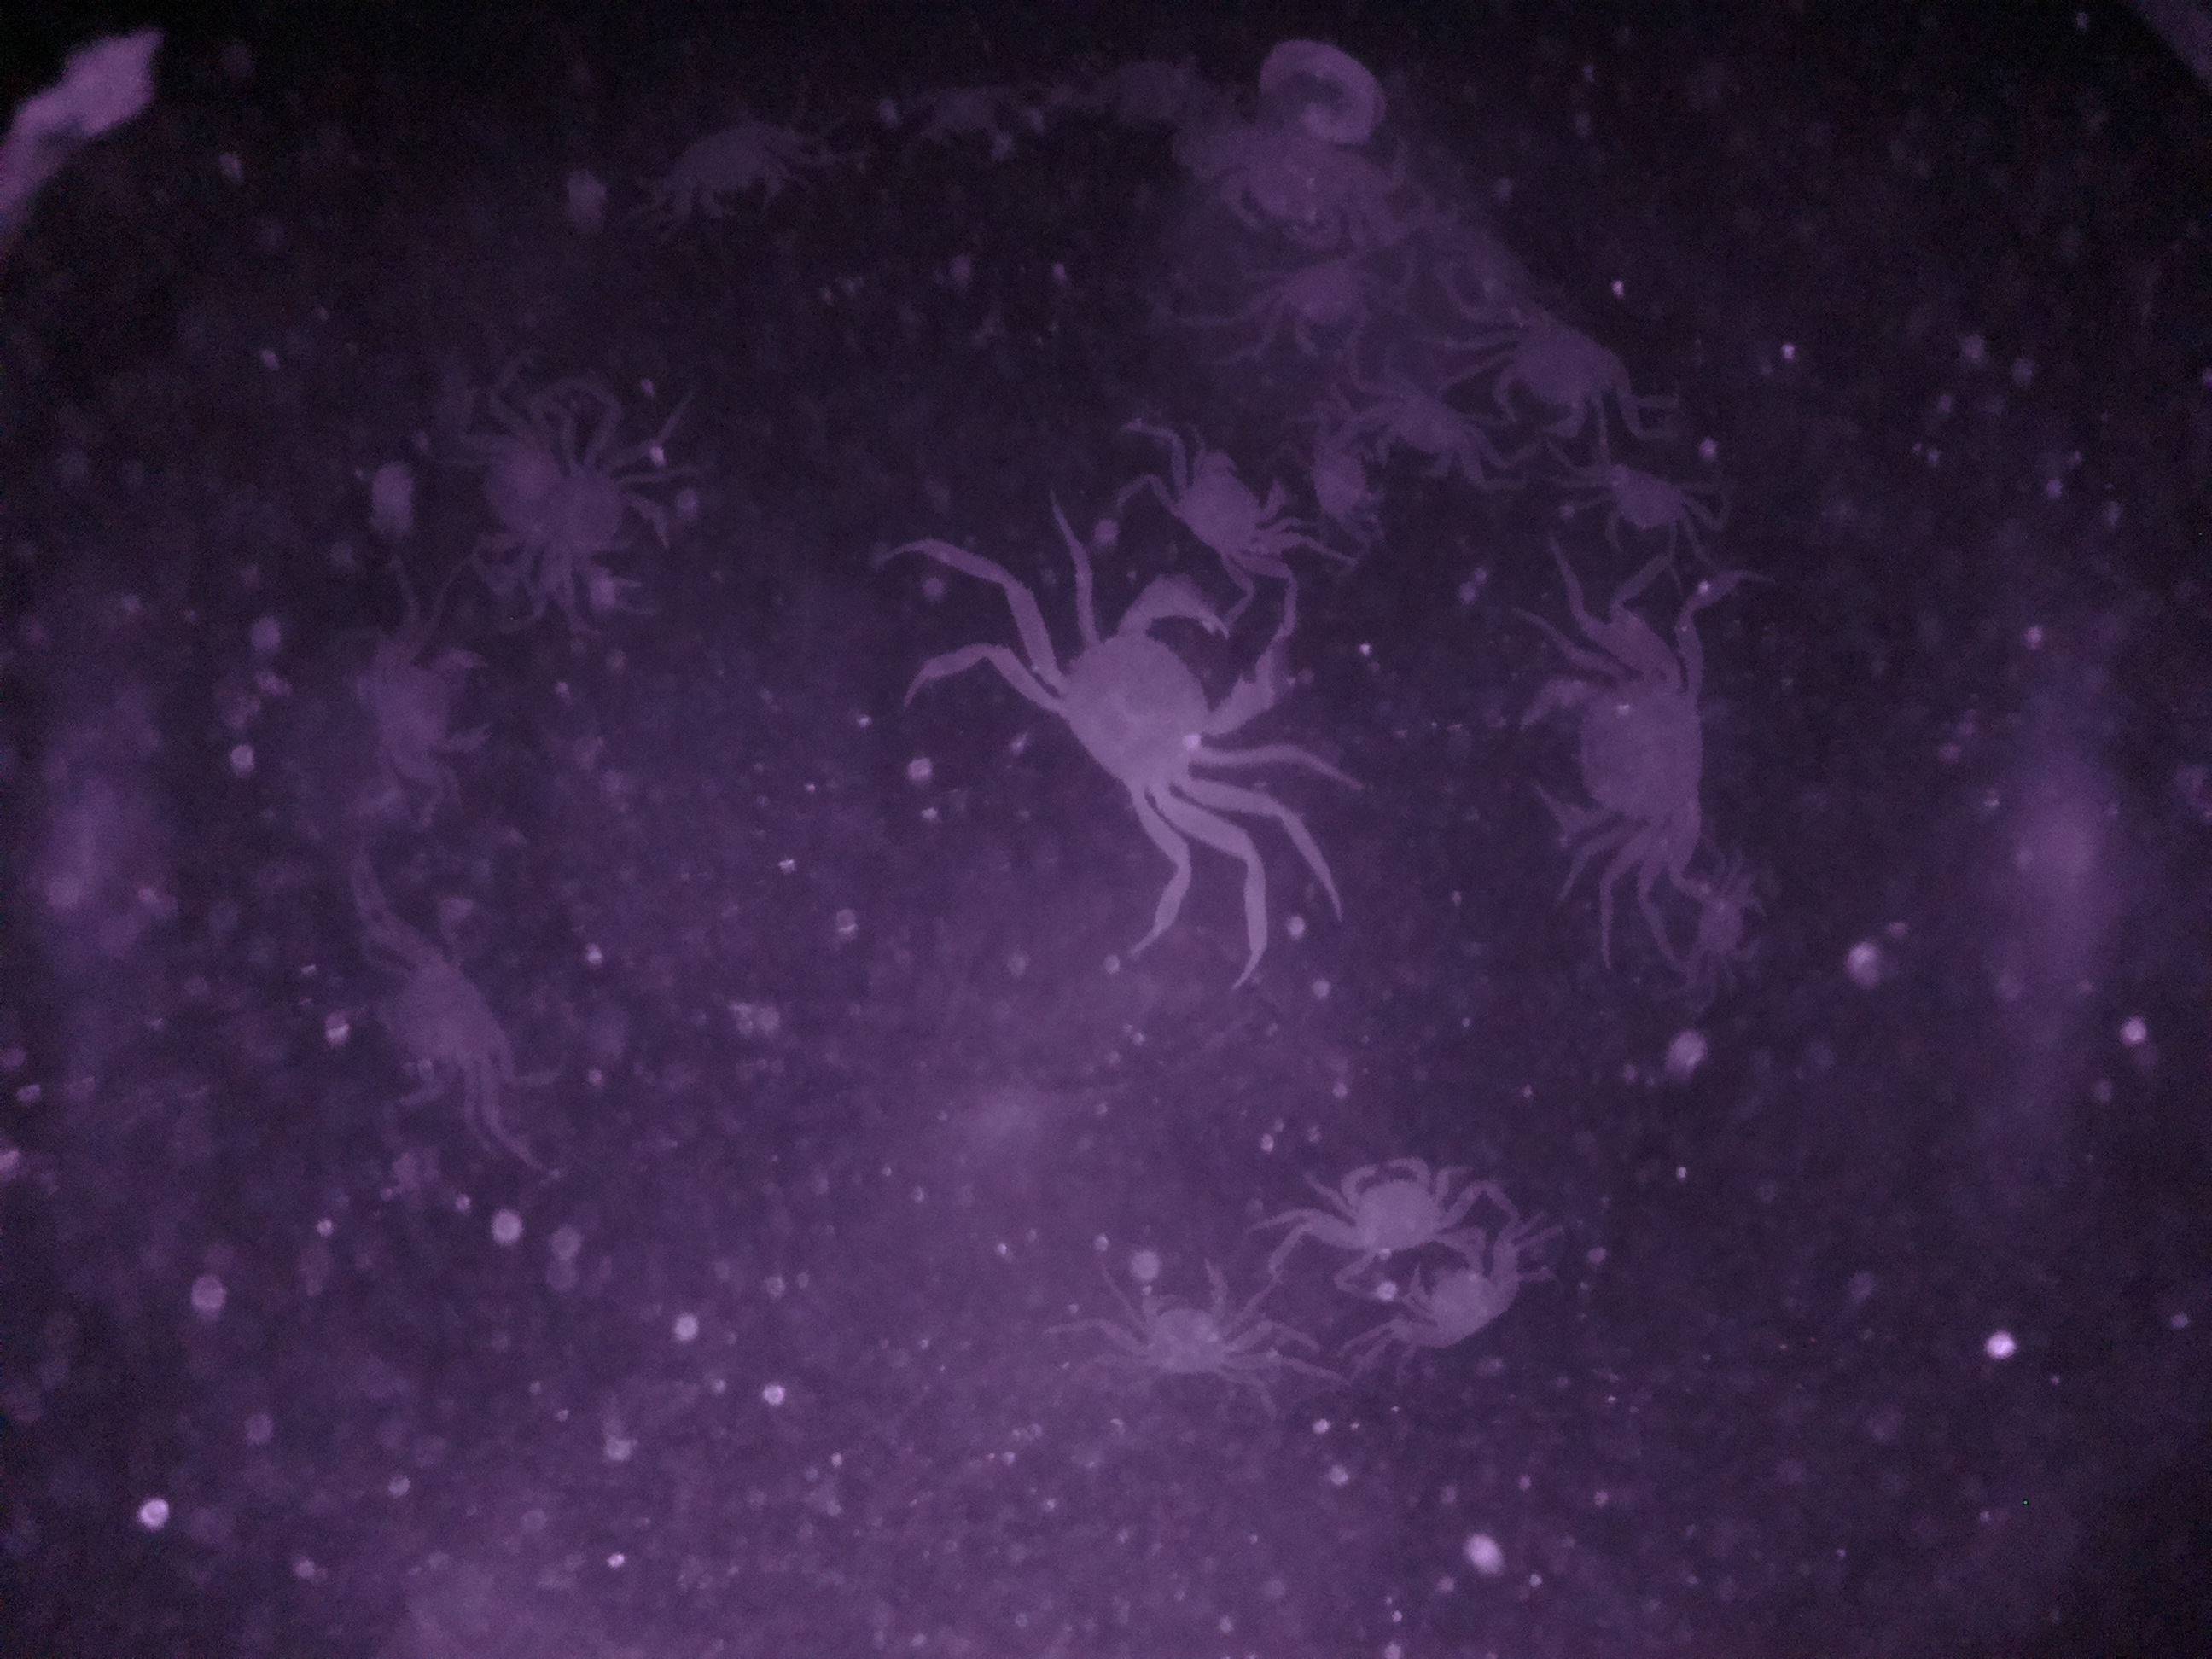Crab: (979, 579, 1280, 863), (1514, 613, 1728, 896), (1132, 416, 1308, 580), (1461, 303, 1644, 450), (1291, 1150, 1479, 1277), (1097, 1255, 1261, 1396), (1576, 455, 1714, 563)
